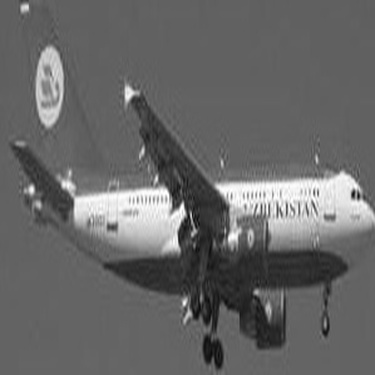airplane: (6, 6, 370, 368)
